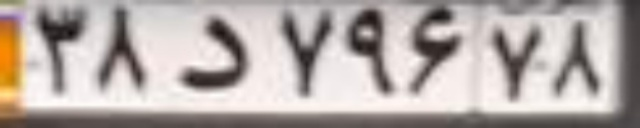3: (30, 0, 84, 92)
6: (406, 7, 466, 94)
7: (273, 4, 340, 98), (487, 19, 540, 100)
8: (93, 1, 148, 92), (552, 20, 605, 98)
9: (345, 7, 393, 95)
dal: (175, 14, 246, 88)
